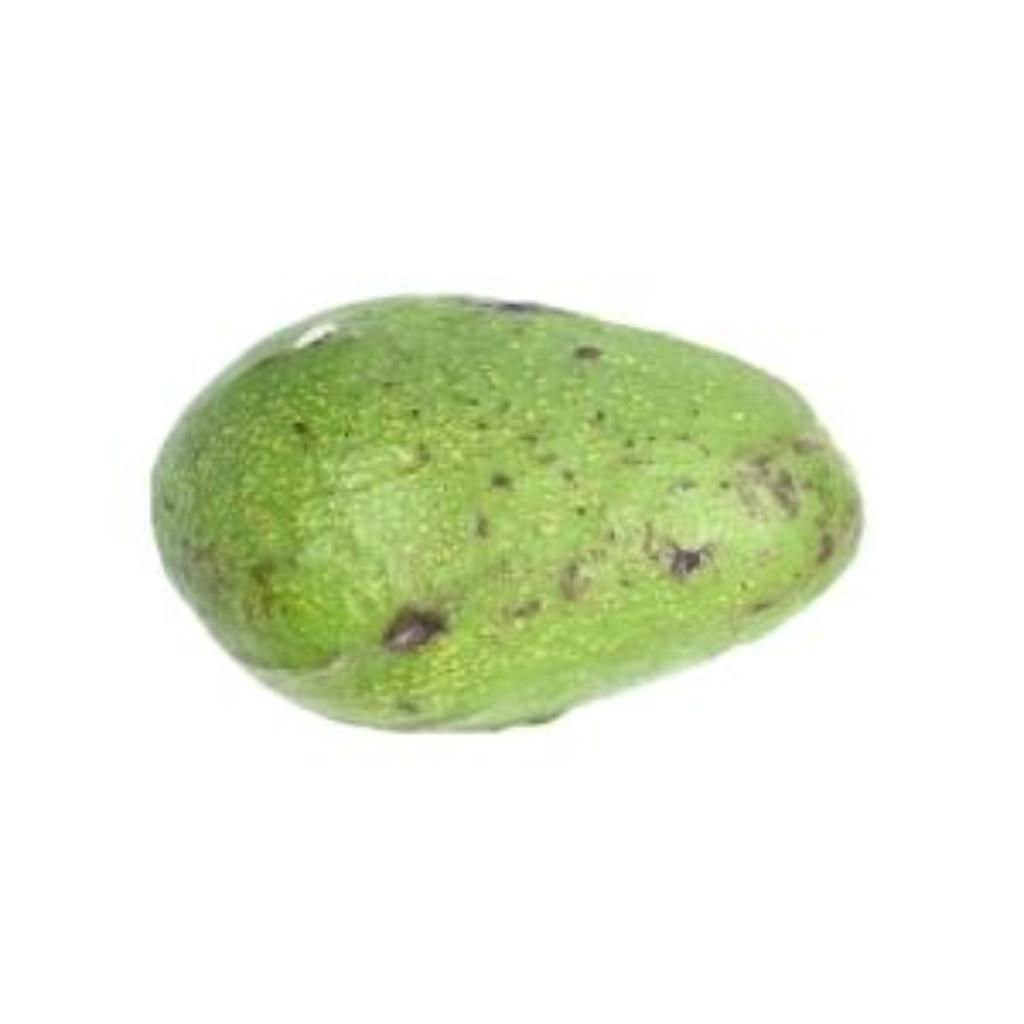cercospora: (126, 276, 884, 748)
